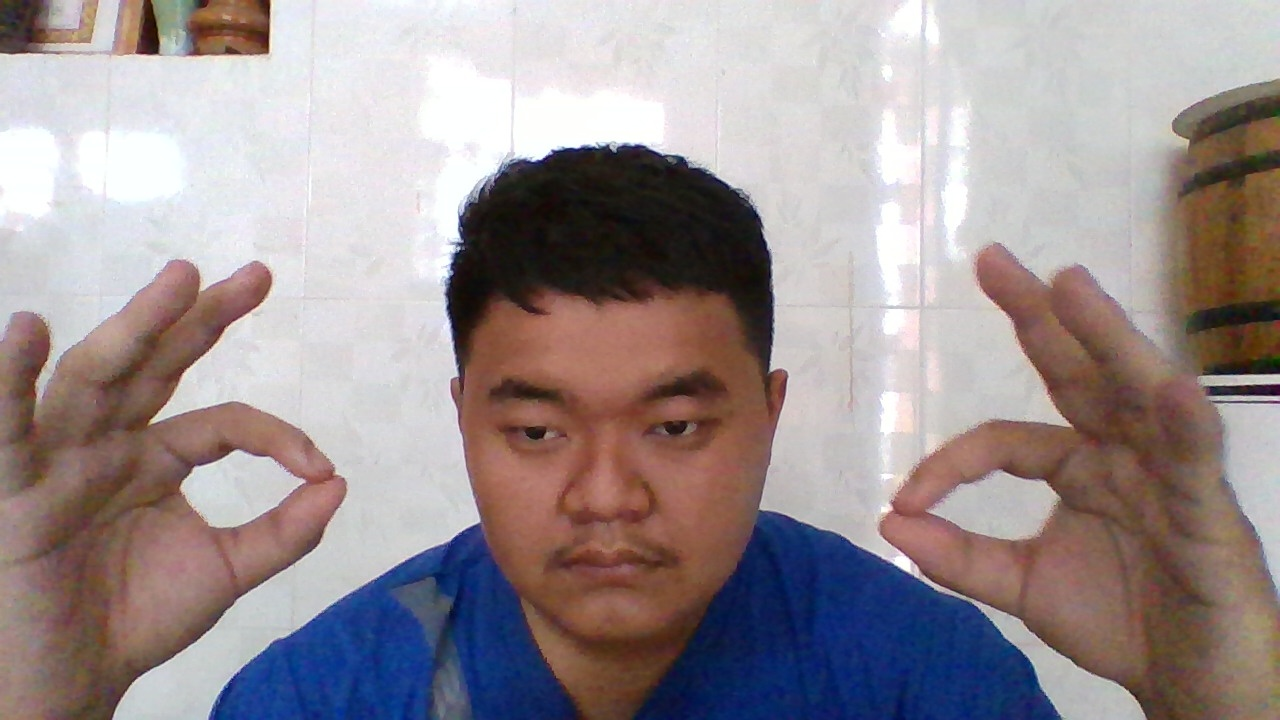T: (882, 243, 1224, 719), (0, 268, 345, 700)
